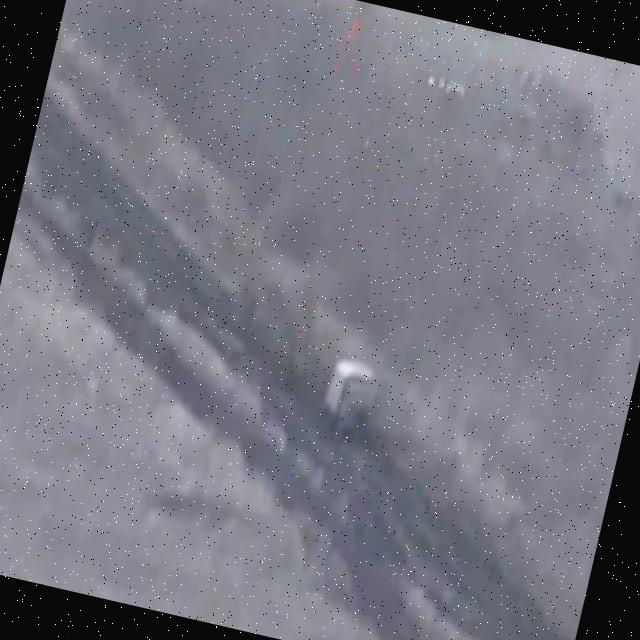Vehicle: (316, 356, 386, 451)
